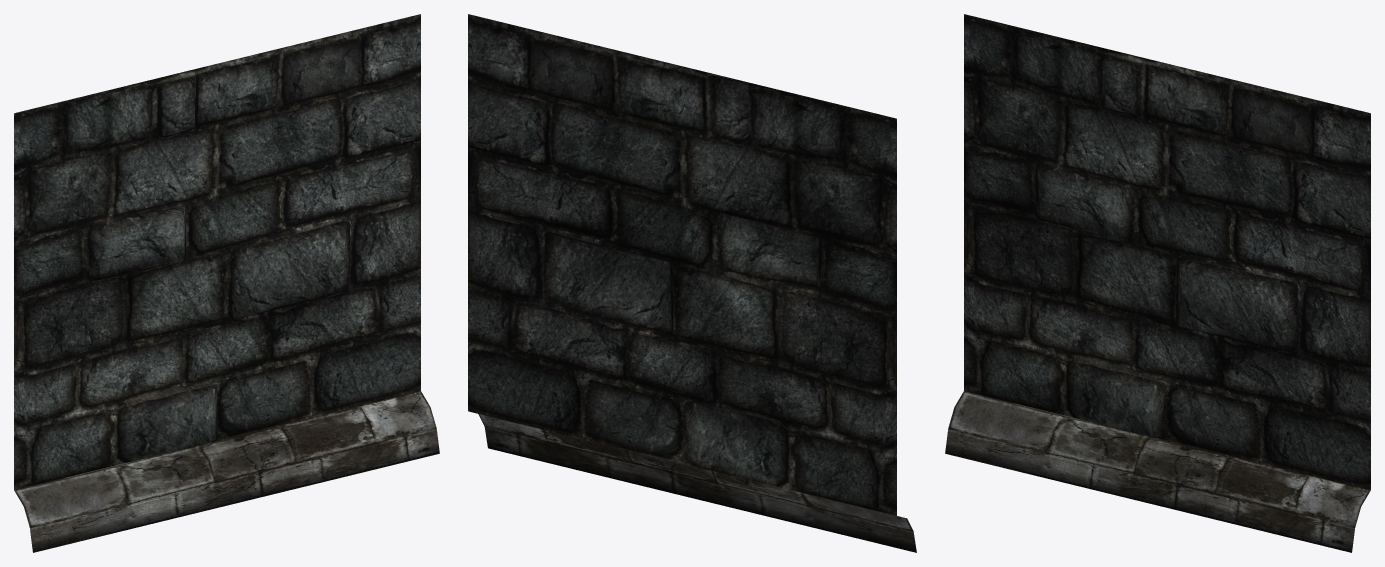
The model's file is default_square_brick.dae.
3 renders of one model, left to right at view 1: azimuth 30°, elevation 25°; view 2: azimuth 150°, elevation 25°; view 3: azimuth 330°, elevation 25°, orthographic. The views are drawn at different scales.
Parts seen in each view (by area): view 1: polySurface117, polySurface120; view 2: polySurface117, polySurface120; view 3: polySurface117, polySurface120.
Boxes of the visible parts, x1=… form: polySurface117: x1=14, y1=14, x2=420, y2=489; polySurface120: x1=14, y1=391, x2=439, y2=552; polySurface117: x1=468, y1=14, x2=896, y2=515; polySurface120: x1=478, y1=414, x2=916, y2=552; polySurface117: x1=964, y1=14, x2=1370, y2=489; polySurface120: x1=945, y1=391, x2=1370, y2=552.
Bounding box in the file's own units: 4 × 4 × 0.3219.
